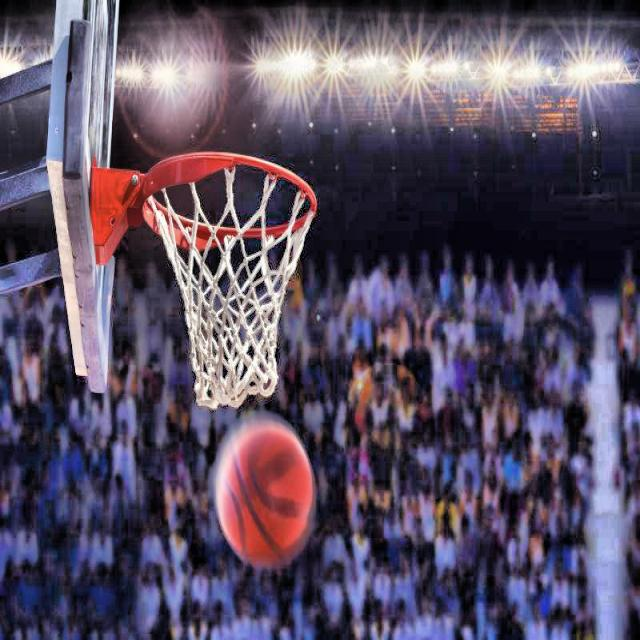rim: (137, 151, 320, 411)
